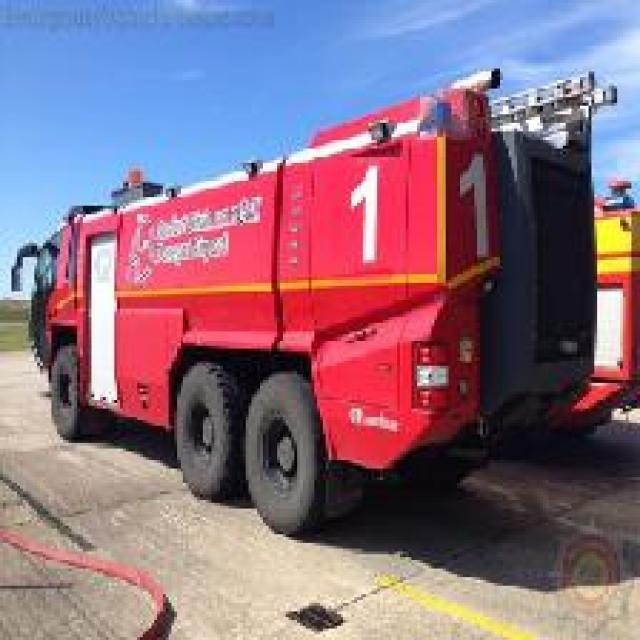emergency: (8, 62, 638, 534)
